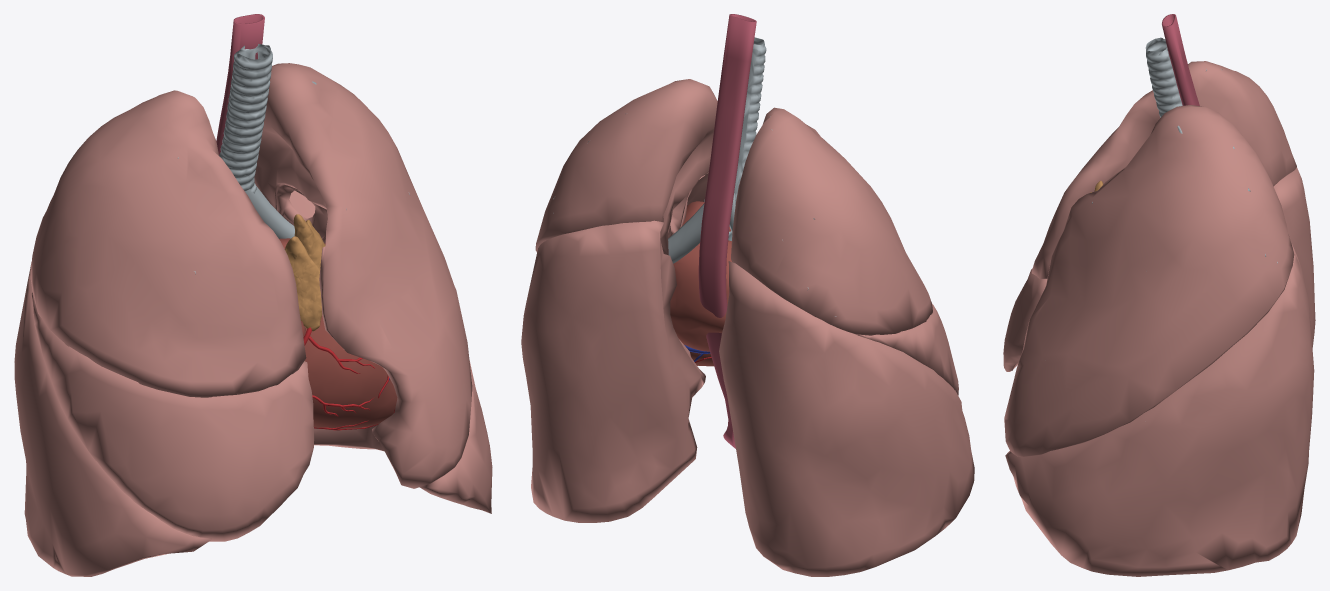
Rendered from organs-thorax.glb.
3 renders of one model, left to right at view 1: azimuth 30°, elevation 25°; view 2: azimuth 150°, elevation 25°; view 3: azimuth 270°, elevation 25°, orthographic. The views are drawn at different scales.
Visible parts, largest first — view 1: organ-superior-lobe-of-right-lung, organ-superior-lobe-of-left-lung, organ-middle-lobe-of-right-lung, organ-inferior-lobe-of-right-lung, organ-right-ventricle, organ-inferior-lobe-of-left-lung, organ-trachea, organ-right-lobe-of-thymus, organ-oesophagus, organ-left-main-bronchus, organ-right-coronary-artery, organ-left-lobe-of-thymus; view 2: organ-inferior-lobe-of-right-lung, organ-inferior-lobe-of-left-lung, organ-superior-lobe-of-right-lung, organ-superior-lobe-of-left-lung, organ-oesophagus, organ-left-atrium, organ-middle-lobe-of-right-lung, organ-trachea, organ-left-main-bronchus; view 3: organ-superior-lobe-of-left-lung, organ-inferior-lobe-of-left-lung, organ-superior-lobe-of-right-lung, organ-inferior-lobe-of-right-lung, organ-middle-lobe-of-right-lung, organ-trachea, organ-oesophagus.
Boxes of the visible parts, left/top/right/bottom form: organ-superior-lobe-of-right-lung: left=30, top=90, right=306, bottom=397; organ-superior-lobe-of-left-lung: left=254, top=63, right=472, bottom=488; organ-middle-lobe-of-right-lung: left=31, top=292, right=314, bottom=541; organ-inferior-lobe-of-right-lung: left=14, top=262, right=211, bottom=576; organ-right-ventricle: left=304, top=315, right=397, bottom=428; organ-inferior-lobe-of-left-lung: left=289, top=190, right=492, bottom=513; organ-trachea: left=219, top=44, right=272, bottom=193; organ-right-lobe-of-thymus: left=284, top=236, right=322, bottom=331; organ-oesophagus: left=216, top=14, right=264, bottom=155; organ-left-main-bronchus: left=245, top=183, right=294, bottom=238; organ-right-coronary-artery: left=303, top=327, right=378, bottom=430; organ-left-lobe-of-thymus: left=293, top=214, right=325, bottom=268; organ-inferior-lobe-of-right-lung: left=719, top=261, right=974, bottom=576; organ-inferior-lobe-of-left-lung: left=521, top=220, right=705, bottom=522; organ-superior-lobe-of-right-lung: left=731, top=107, right=932, bottom=335; organ-superior-lobe-of-left-lung: left=535, top=79, right=717, bottom=255; organ-oesophagus: left=698, top=14, right=756, bottom=448; organ-left-atrium: left=670, top=201, right=731, bottom=351; organ-middle-lobe-of-right-lung: left=855, top=303, right=958, bottom=395; organ-trachea: left=704, top=37, right=766, bottom=204; organ-left-main-bronchus: left=668, top=203, right=704, bottom=263; organ-superior-lobe-of-left-lung: left=1004, top=105, right=1294, bottom=456; organ-inferior-lobe-of-left-lung: left=1005, top=242, right=1314, bottom=576; organ-superior-lobe-of-right-lung: left=1031, top=61, right=1296, bottom=279; organ-inferior-lobe-of-right-lung: left=1273, top=167, right=1315, bottom=347; organ-middle-lobe-of-right-lung: left=1003, top=268, right=1047, bottom=371; organ-trachea: left=1145, top=37, right=1182, bottom=117; organ-oesophagus: left=1162, top=14, right=1199, bottom=105.
Size of the model in its own units: 0.2618 by 0.3094 by 0.1866.
